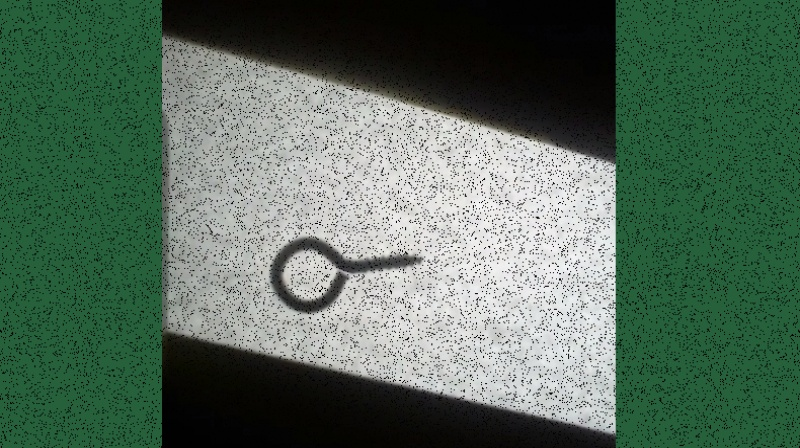O001: (267, 232, 426, 316)
